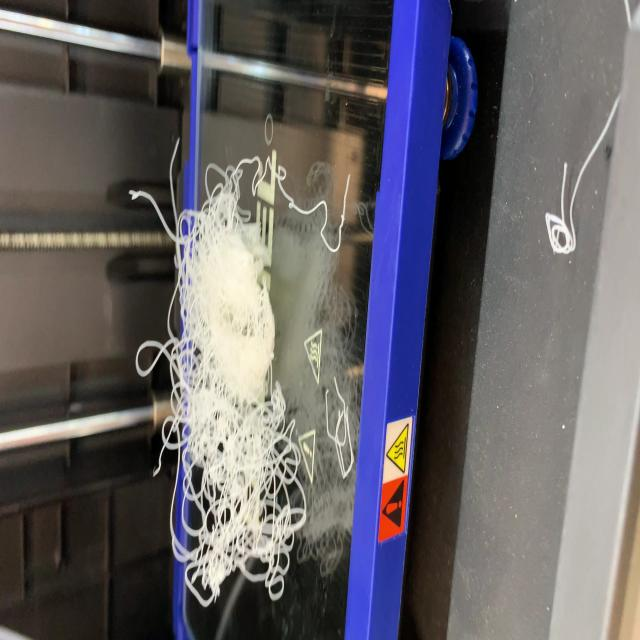spaghetti: (130, 137, 366, 608)
